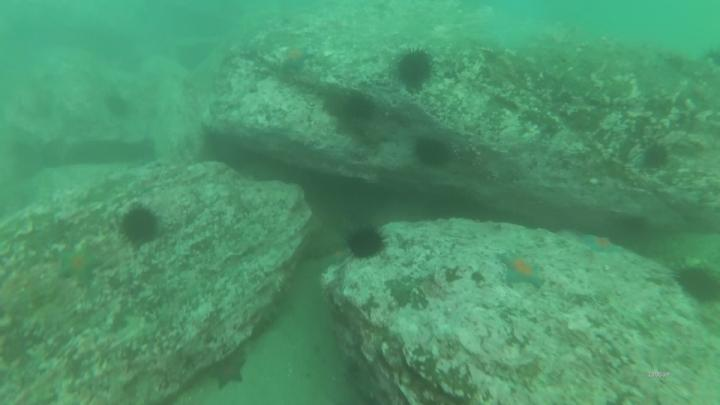echinus: (341, 217, 393, 265), (120, 203, 166, 252), (393, 45, 436, 94), (678, 259, 720, 307), (335, 91, 381, 127), (415, 133, 455, 170), (639, 140, 675, 174)
starfish: (496, 252, 549, 292), (58, 245, 105, 289), (208, 356, 248, 390), (582, 233, 627, 259), (281, 44, 315, 73)
